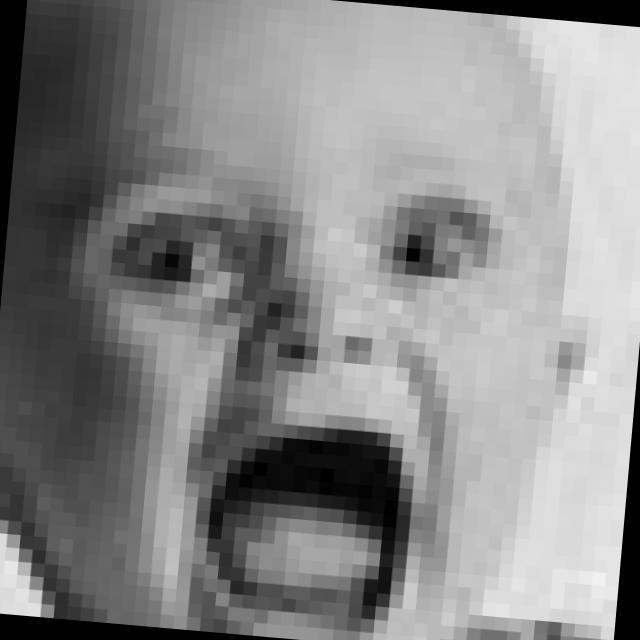fear: (56, 121, 525, 640)
